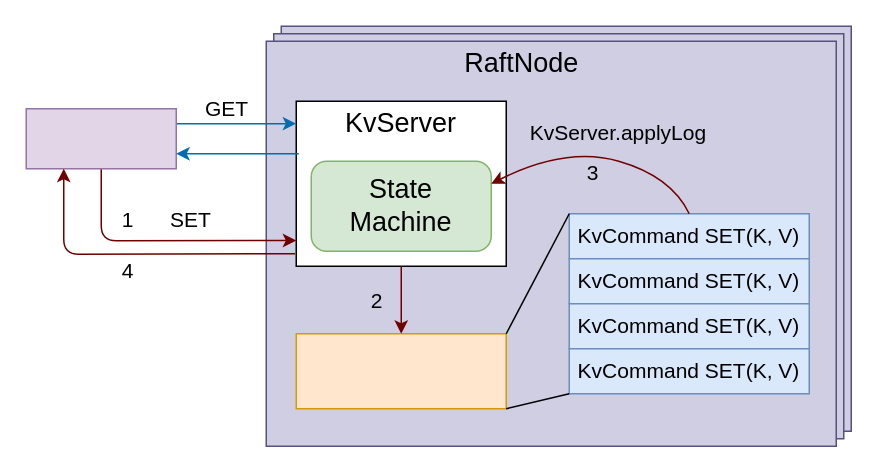
The diagram is 878 pixels wide and 473 high, and some of its shapes have lost their labels. Here are the shapes that lost their labels. From the top down, the centre of each, then its label:
pixel 100 138: Client
pixel 400 370: Consensus Module
